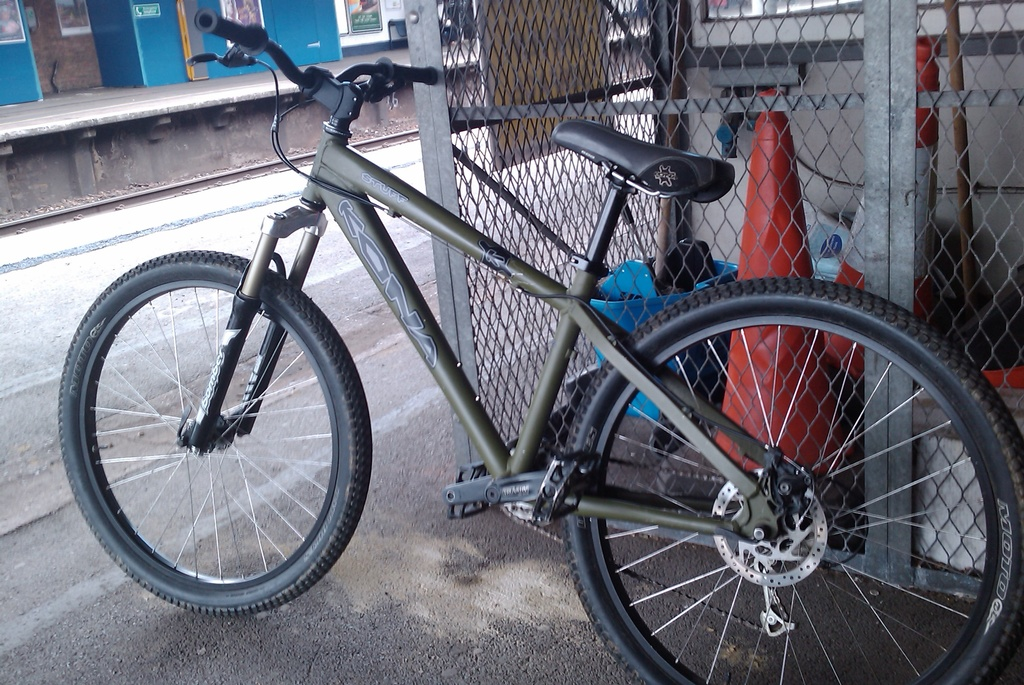Bike: (59, 62, 880, 633)
